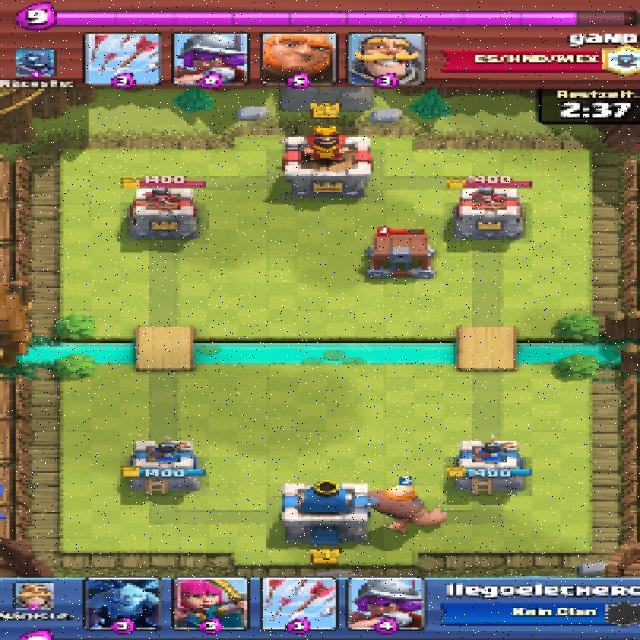Player-GoblinCage: (370, 233, 436, 276)
